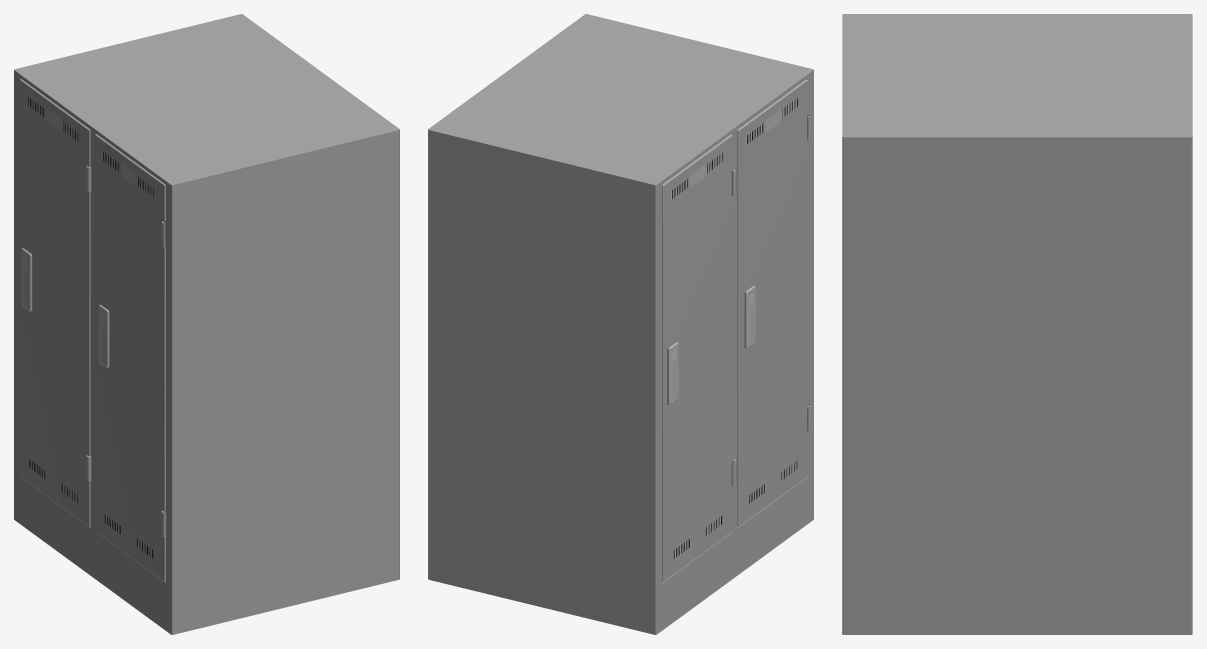
The model's file is SM_Lockers_02_Small.fbx.
3 views of the same model, side by side, from view 1: azimuth 30°, elevation 25°; view 2: azimuth 150°, elevation 25°; view 3: azimuth 270°, elevation 25° (orthographic). The views are drawn at different scales.
Parts seen in each view (by area): view 1: SM_Lockers_02_Small_LOD0; view 2: SM_Lockers_02_Small_LOD0; view 3: SM_Lockers_02_Small_LOD0.
Part boxes in pixels (x1,y1,x2,y2): SM_Lockers_02_Small_LOD0: (14,14,399,634); SM_Lockers_02_Small_LOD0: (428,14,813,634); SM_Lockers_02_Small_LOD0: (842,14,1192,634).
Size of the model in its own units: 50.72 by 60 by 94.
